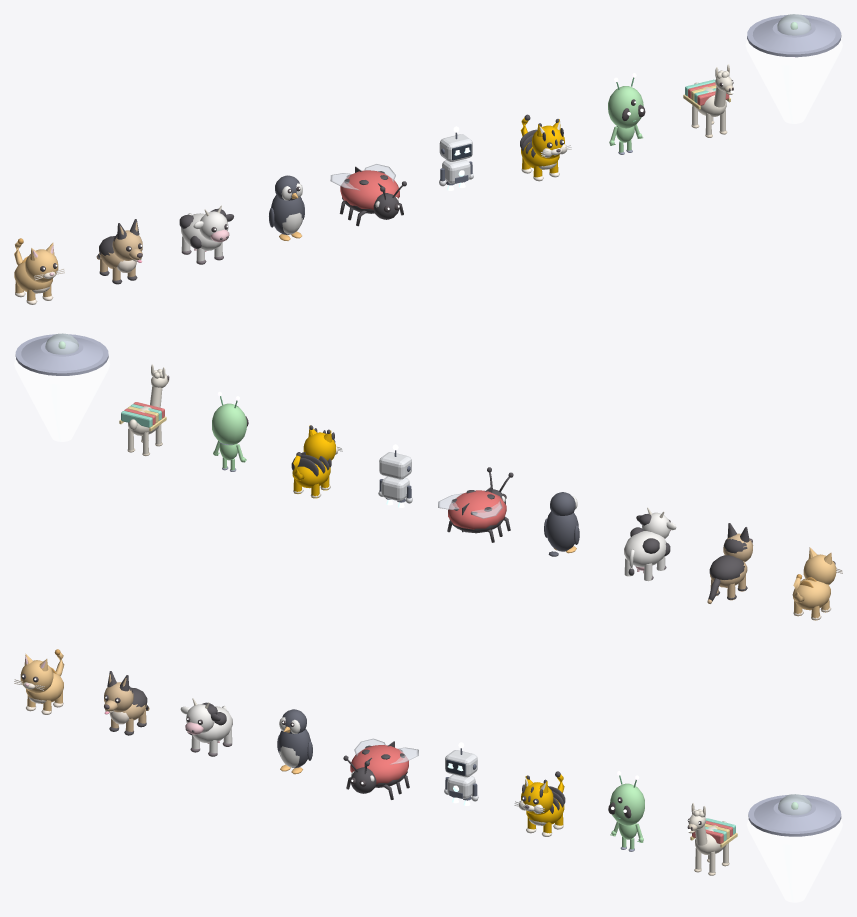
Rendered from zoo-2119ec39.glb.
3 renders of one model, top to bottom at view 1: azimuth 30°, elevation 25°; view 2: azimuth 150°, elevation 25°; view 3: azimuth 330°, elevation 25°, orthographic.
Parts seen in each view (by area): view 1: Ufo_Beam, Ufo_Hull_Saucer, Ladybug_WingL_Ladybug, Alien_Head_Alien, Cat_Head_CatFur, Penguin_Body_Penguin, Dog_Head_Tan, Tiger_Head_TigerFur, Ufo_Hull_Dome, Cow_Body_White; view 2: Ufo_Beam, Ufo_Hull_Saucer, Ladybug_WingL_Ladybug, Alien_Head_Alien, Penguin_Body_Penguin, Cow_Body_White, Cat_Body_CatFur, Aki_Head_Bot, Cat_Head_CatFur, Dog_Body_DogBlack, Tiger_Head_TigerFur, Ufo_Hull_Dome (+1 smaller); view 3: Ufo_Beam, Ufo_Hull_Saucer, Ladybug_WingR_Ladybug, Alien_Head_Alien, Cat_Head_CatFur, Penguin_Body_Penguin, Dog_Head_Tan, Tiger_Head_TigerFur, Cow_Body_White, Ufo_Hull_Dome, Aki_Head_Bot, Cat_Body_CatFur.
Part boxes in pixels (<box>): Ufo_Beam: <box>745,40,842,123</box>; Ufo_Hull_Saucer: <box>747,14,841,57</box>; Ladybug_WingL_Ladybug: <box>340,171,382,209</box>; Alien_Head_Alien: <box>608,86,643,128</box>; Cat_Head_CatFur: <box>25,249,58,282</box>; Penguin_Body_Penguin: <box>271,195,303,234</box>; Dog_Head_Tan: <box>112,230,142,260</box>; Tiger_Head_TigerFur: <box>532,125,564,159</box>; Ufo_Hull_Dome: <box>777,14,811,35</box>; Cow_Body_White: <box>181,213,222,250</box>; Ufo_Beam: <box>14,359,109,441</box>; Ufo_Hull_Saucer: <box>15,334,108,375</box>; Ladybug_WingL_Ladybug: <box>461,491,506,529</box>; Alien_Head_Alien: <box>212,403,246,445</box>; Penguin_Body_Penguin: <box>546,511,578,551</box>; Cow_Body_White: <box>624,531,666,567</box>; Cat_Body_CatFur: <box>793,578,830,610</box>; Aki_Head_Bot: <box>379,452,411,479</box>; Cat_Head_CatFur: <box>803,554,836,584</box>; Dog_Body_DogBlack: <box>709,555,744,579</box>; Tiger_Head_TigerFur: <box>303,432,335,461</box>; Ufo_Hull_Dome: <box>45,333,78,354</box>; Ufo_Beam: <box>747,820,842,902</box>; Ufo_Hull_Saucer: <box>748,794,841,836</box>; Ladybug_WingR_Ladybug: <box>367,746,408,784</box>; Alien_Head_Alien: <box>610,783,644,825</box>; Cat_Head_CatFur: <box>20,660,53,693</box>; Penguin_Body_Penguin: <box>278,728,310,768</box>; Dog_Head_Tan: <box>104,682,133,712</box>; Tiger_Head_TigerFur: <box>521,782,553,815</box>; Cow_Body_White: <box>192,706,232,743</box>; Ufo_Hull_Dome: <box>778,794,811,815</box>; Aki_Head_Bot: <box>445,750,477,777</box>; Cat_Body_CatFur: <box>26,672,63,703</box>.
Bounding box in the file's own units: 18.4 × 2.23 × 1.9.
